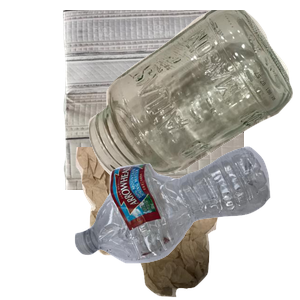glass: (86, 10, 300, 184)
paper: (60, 10, 300, 190)
plastic: (72, 144, 300, 300)
trash: (73, 147, 300, 300)
